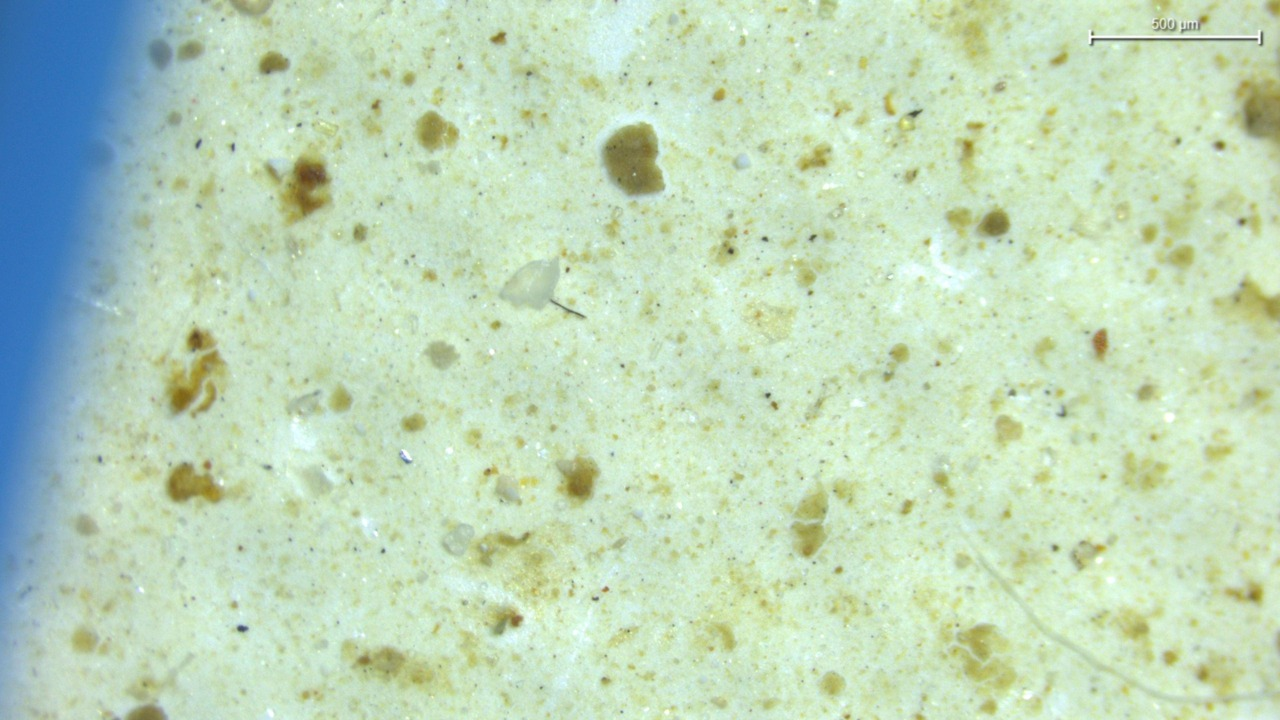microplastic_fragment: (499, 259, 559, 309), (442, 524, 474, 556), (495, 476, 521, 503), (733, 153, 751, 170)
